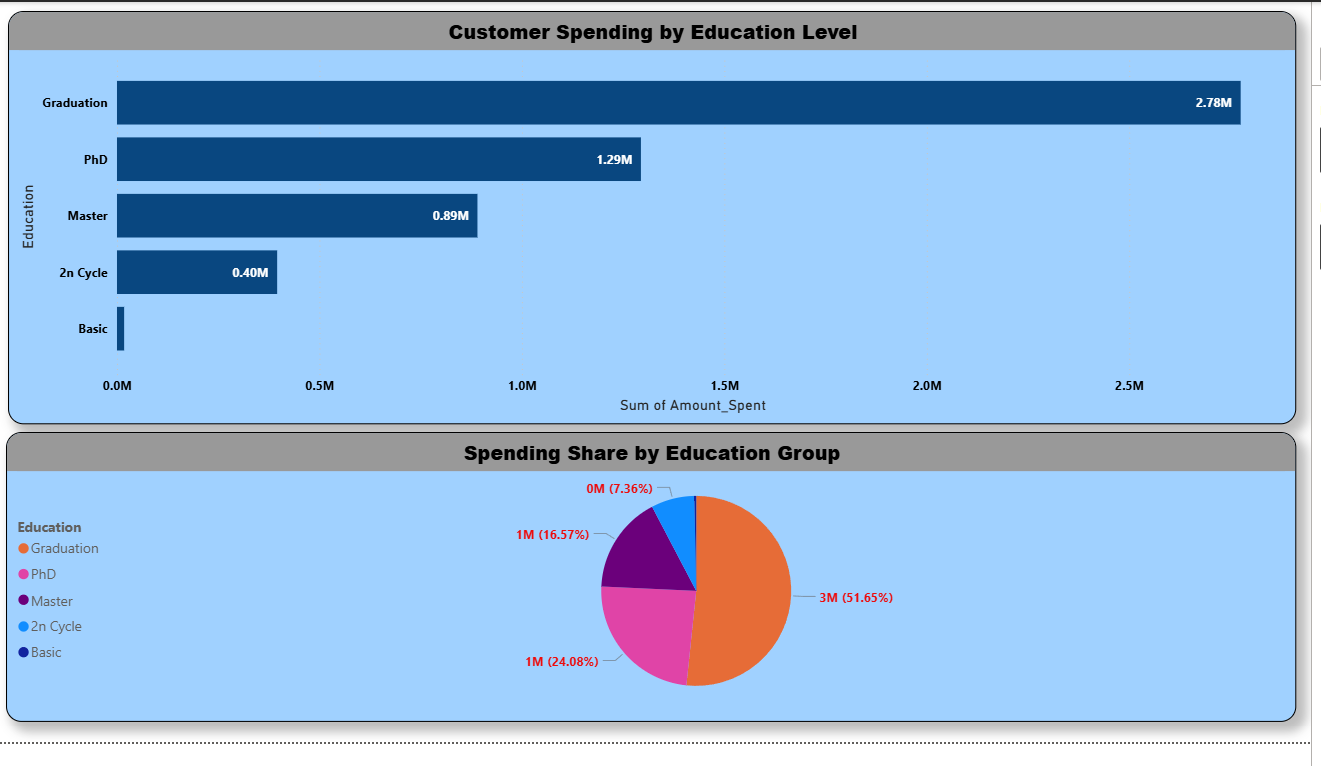

Layout of this report page (visuals, bound fields, positions):
{"tool":"powerbi","page":{"name":"Education & Spending","canvas":[1280,720],"ordinal":1},"visuals":[{"type":"clusteredBarChart","title":"Customer Spending by Education Level","fields":{"Category":["marketing_data.Education"],"Y":["Sum(marketing_data.Amount_Spent)"]},"box":[12.6,8.8,1252.8,401.7],"z":0},{"type":"pieChart","title":"Spending Share by Education Group","fields":{"Category":["marketing_data.Education"],"Y":["Sum(marketing_data.Amount_Spent)"]},"box":[10.7,418.2,1254.7,282.1],"z":1}]}

Visuals, with their boxes in screenshot pixels (x1, y1, x2, y2), scaled from the page's 1280x720 canvas onto the 1321x766 screenshot:
"Customer Spending by Education Level" clusteredBarChart: l=13, t=9, r=1306, b=437
"Spending Share by Education Group" pieChart: l=11, t=445, r=1306, b=745
